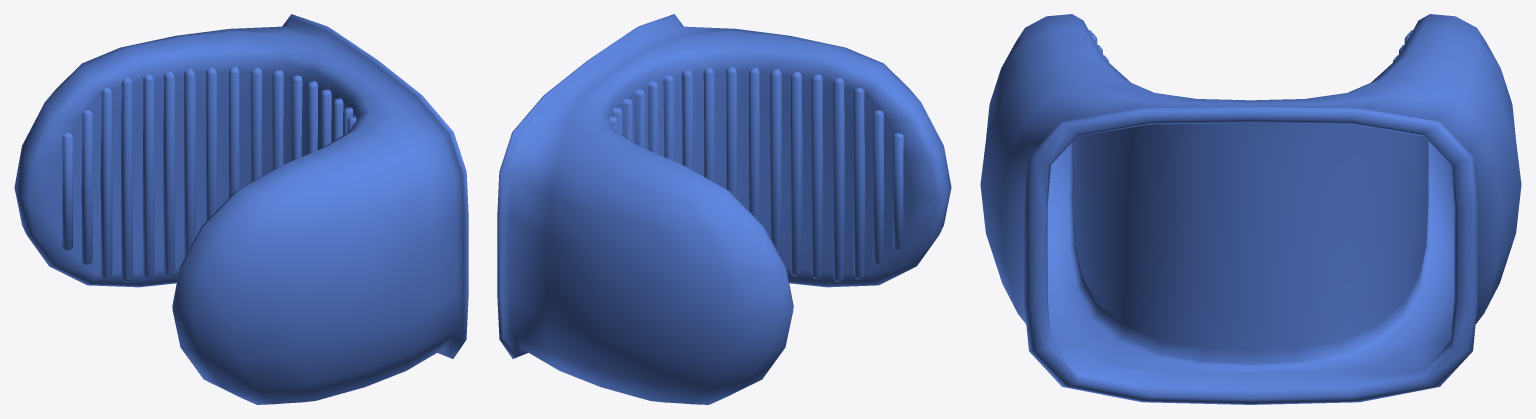
The model's file is potholder.fbx.
3 renders of one model, left to right at view 1: azimuth 30°, elevation 25°; view 2: azimuth 150°, elevation 25°; view 3: azimuth 270°, elevation 25°, orthographic. The views are drawn at different scales.
Parts seen in each view (by area): view 1: potholder; view 2: potholder; view 3: potholder.
Boxes of the visible parts, bbox=[...] form: potholder: bbox=[14, 14, 468, 404]; potholder: bbox=[497, 14, 951, 404]; potholder: bbox=[980, 14, 1521, 404].
Bounding box in the file's own units: 7.42 × 6.35 × 10.45.
